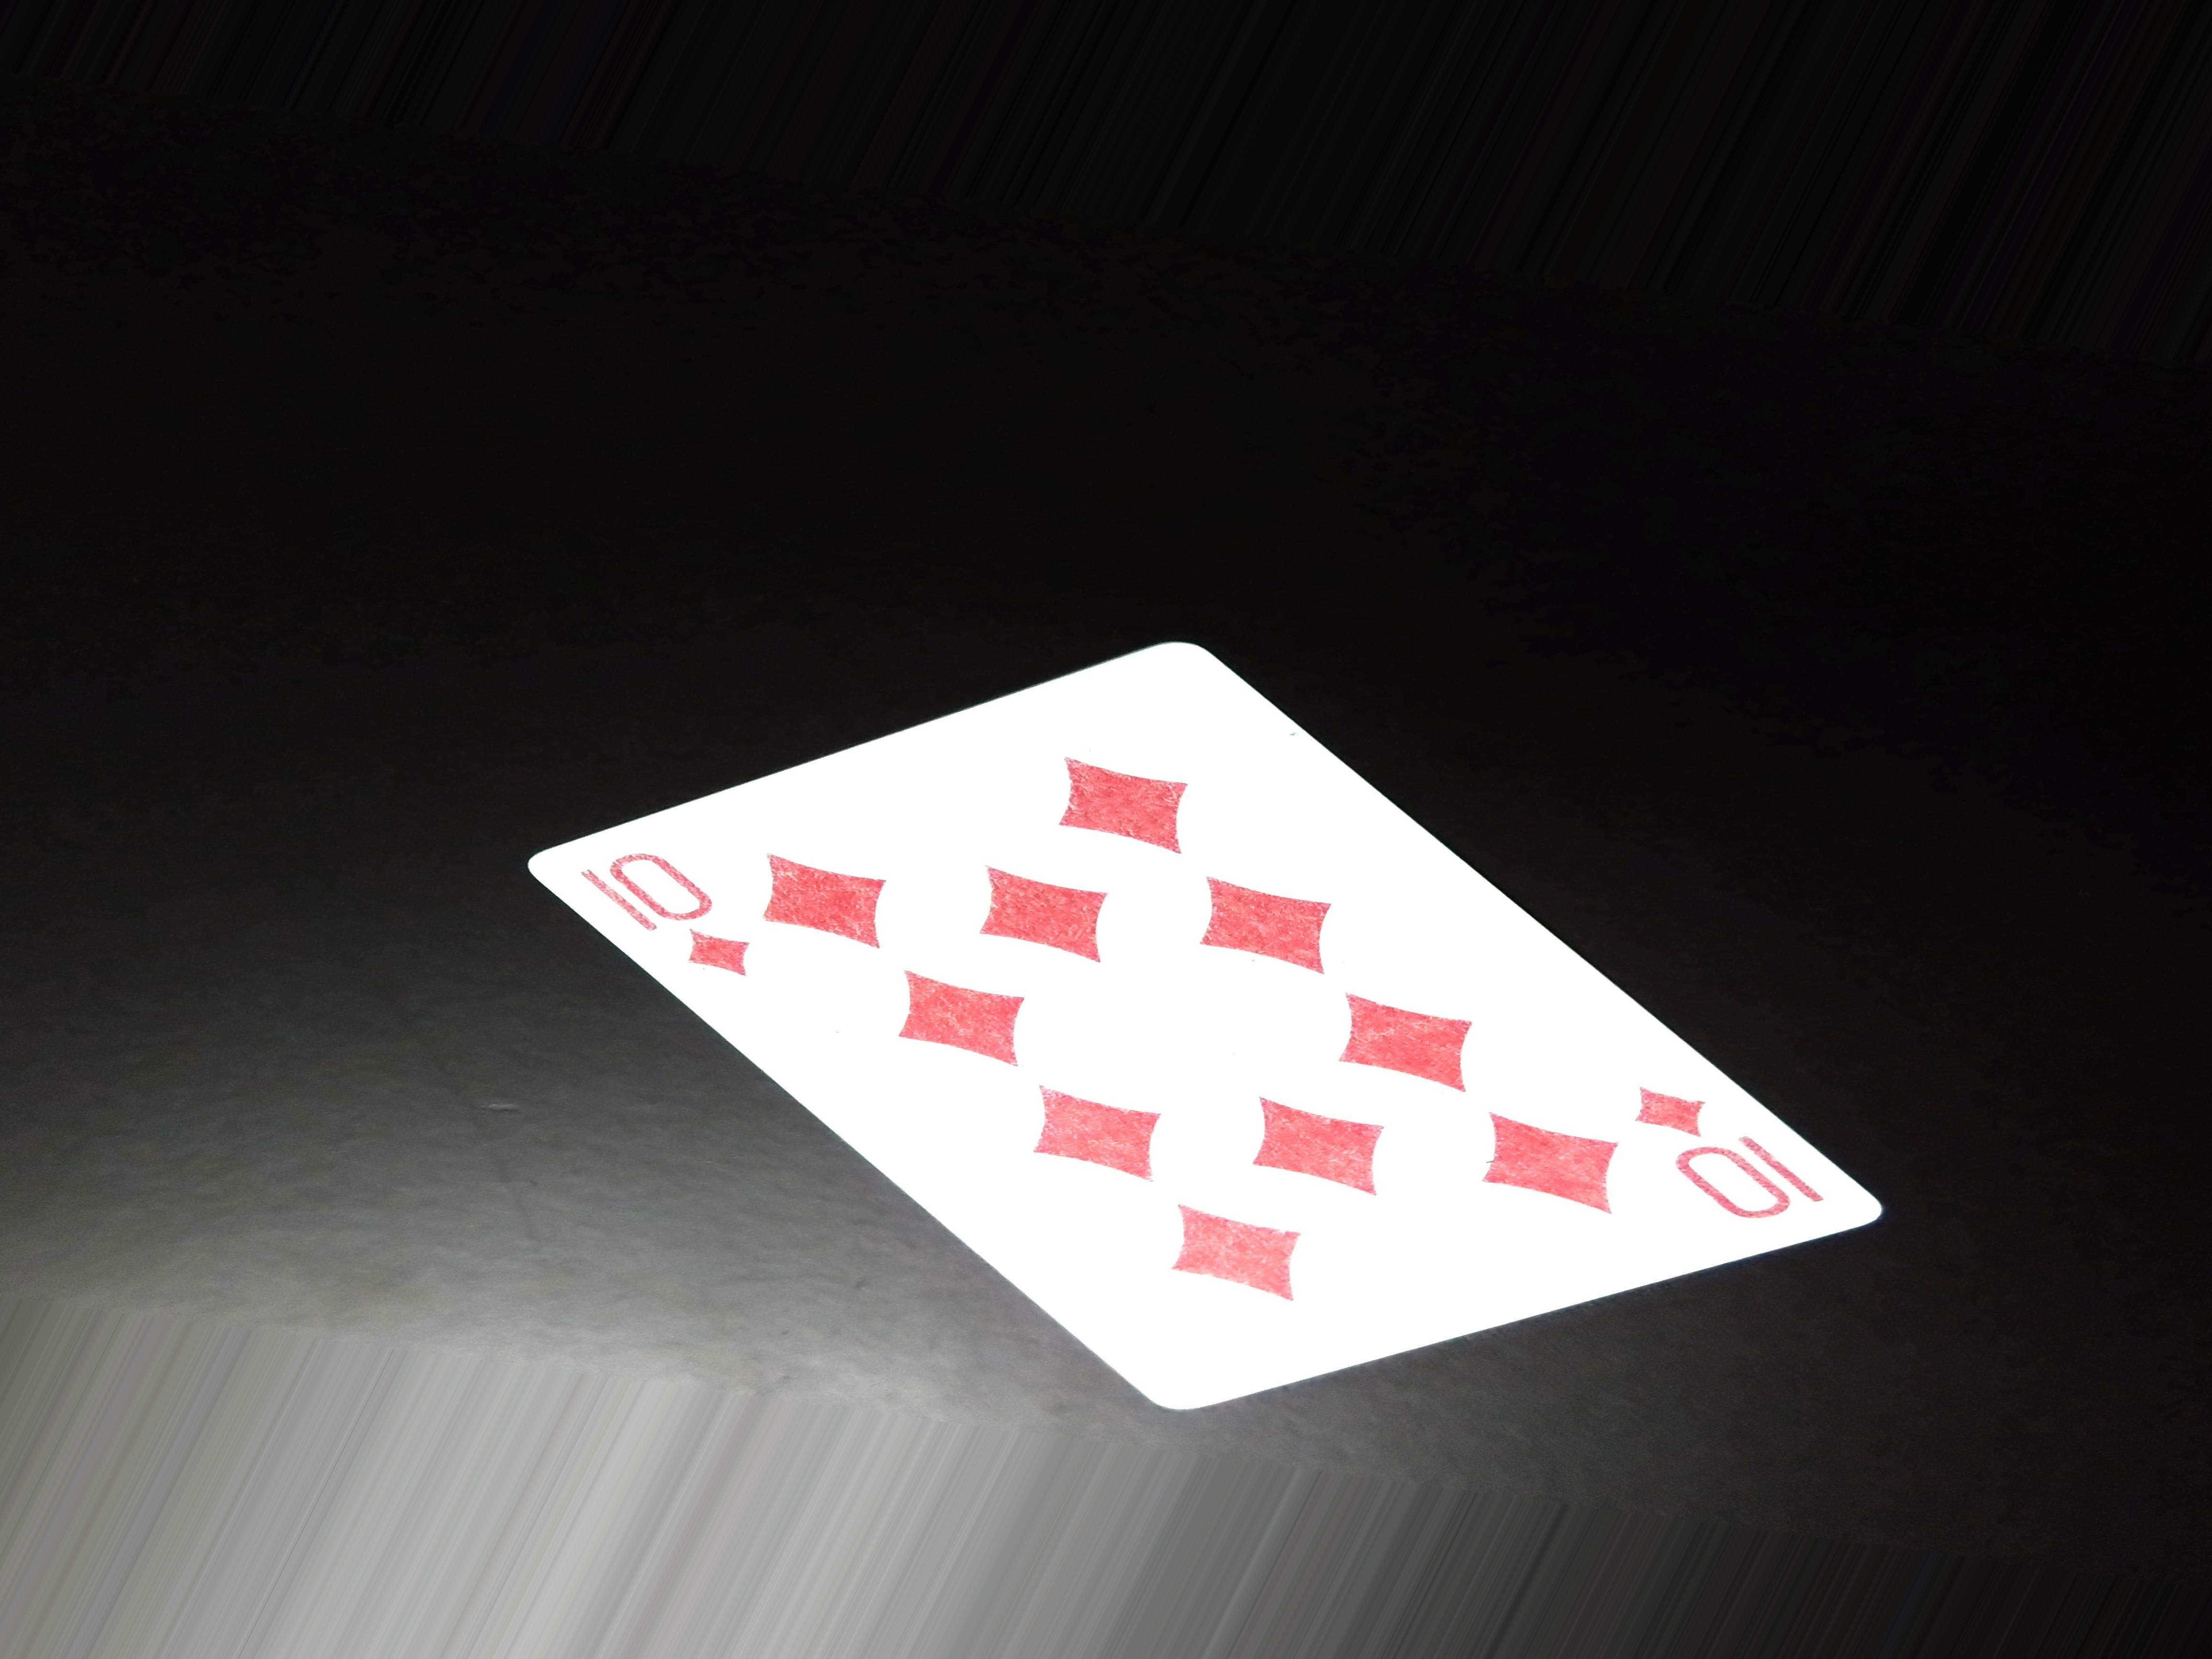10D: (1629, 1072, 1825, 1248)
